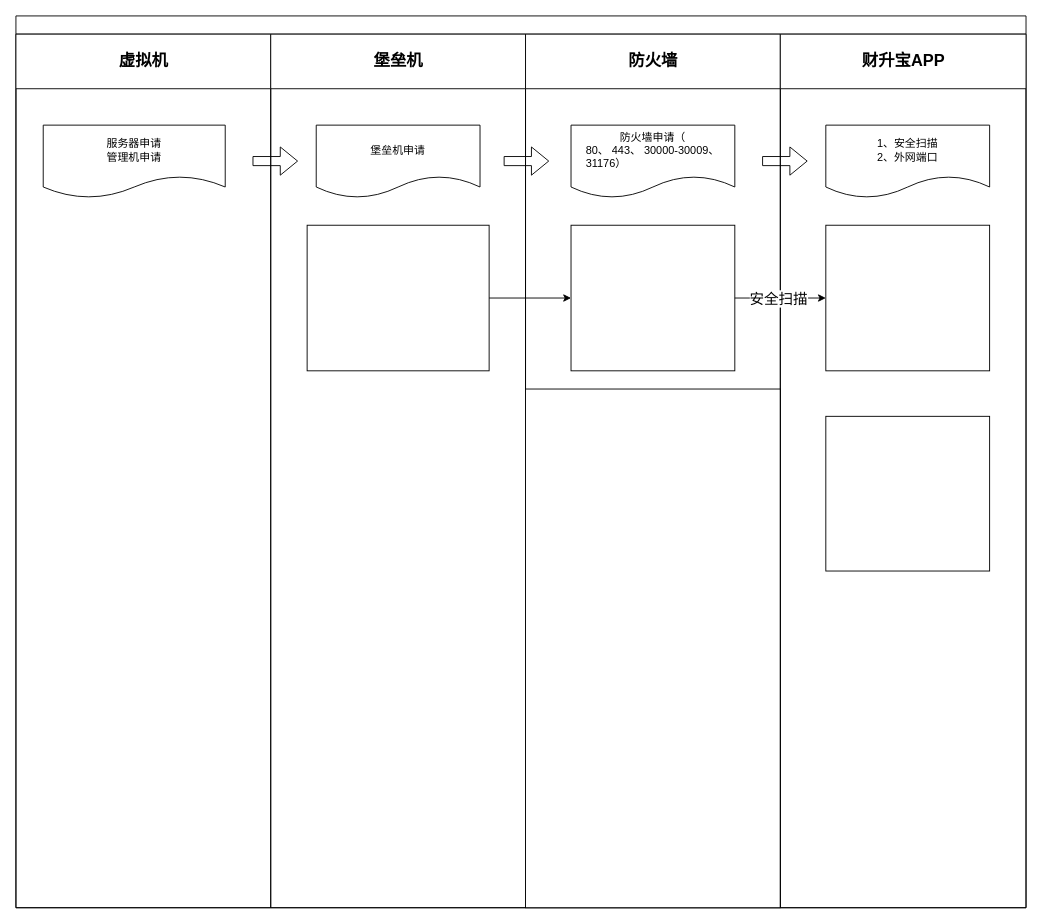
This 1042x924 diagram has some shape labels left out. Each missing label, with the centre of its shape:
"1、开发三方系统接口 a、 数仓 b、付费工具、积分 c、消息通知 d、复盘（恒生账户分析）" goes at pixel 652 297.
"1、开发适配财升宝 a、对接APP登录 b、消息通知 c、分享 d、神策埋点" goes at pixel 907 297.
"1、部署K8S环境" goes at pixel 397 297.
"IP、端口 1、认证系统 2、账户系统 3、恒生账户分析 4、积分商城 5、增值服务器平台 6、智能运营平台 7、数仓 8、神策" goes at pixel 652 648.
